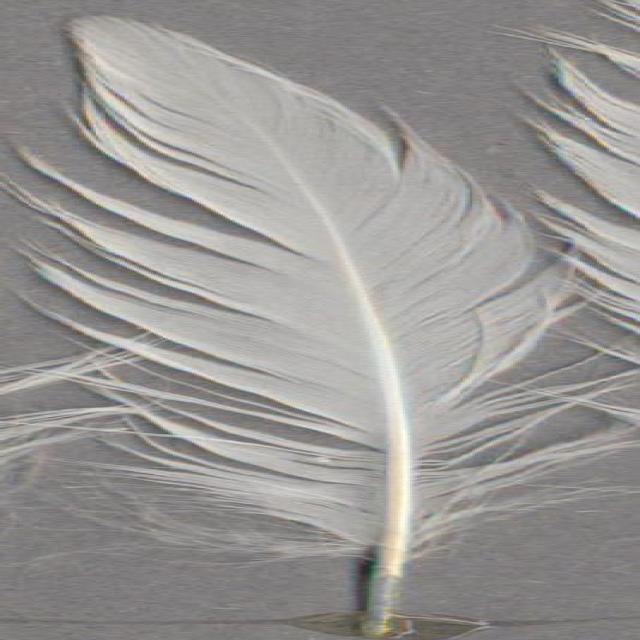feather: (0, 12, 640, 630)
